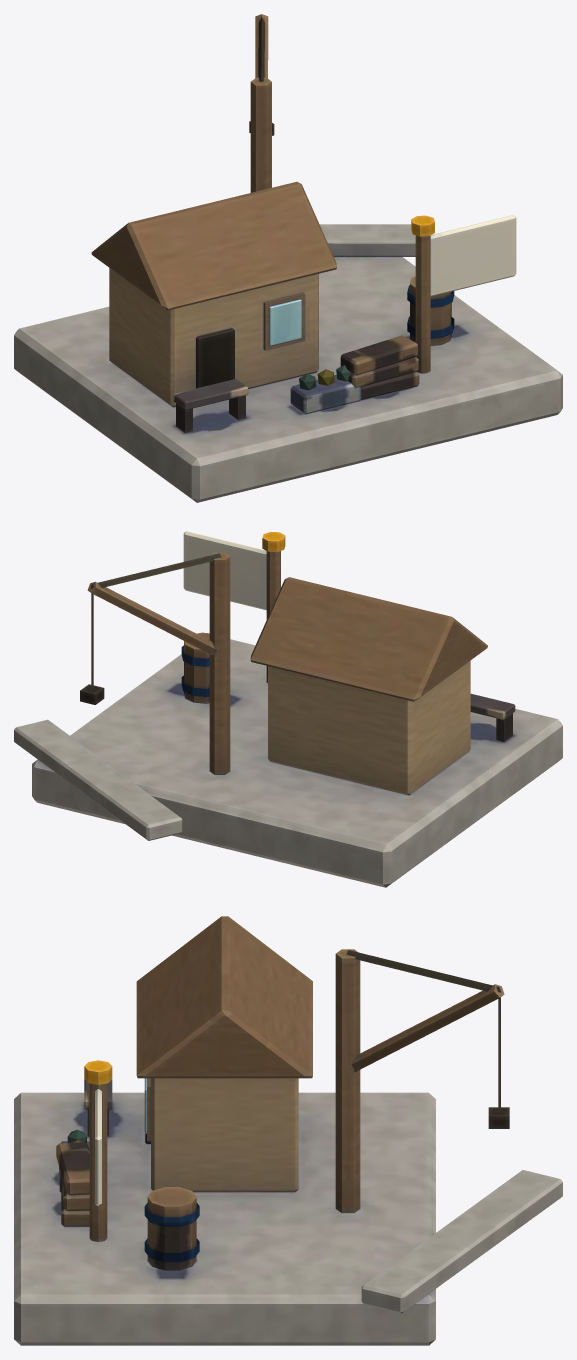
File: harbor-5.glb
3 renders of one model, top to bottom at view 1: azimuth 30°, elevation 25°; view 2: azimuth 150°, elevation 25°; view 3: azimuth 270°, elevation 25°, orthographic. The views are drawn at different scales.
Visible parts, largest first — view 1: harbor-5; view 2: harbor-5; view 3: harbor-5.
Part boxes in pixels (x1=…): harbor-5: x1=14, y1=14, x2=562, y2=502; harbor-5: x1=14, y1=531, x2=562, y2=887; harbor-5: x1=14, y1=916, x2=562, y2=1345.
Size of the model in its own units: 1.51 by 0.9778 by 1.56.
Materials: 1 (1 with a texture image).
